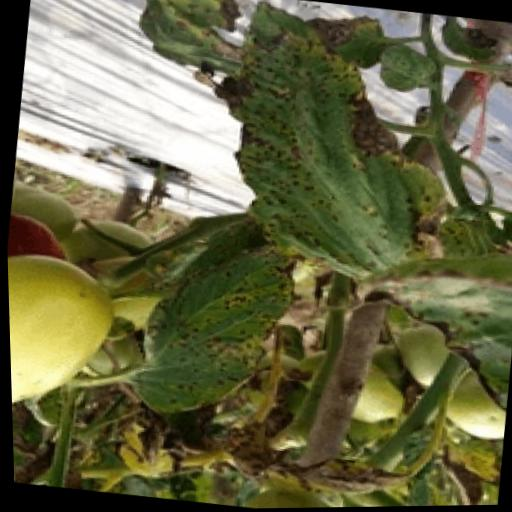Bacterial Spot: (190, 0, 460, 296), (117, 198, 311, 432)
